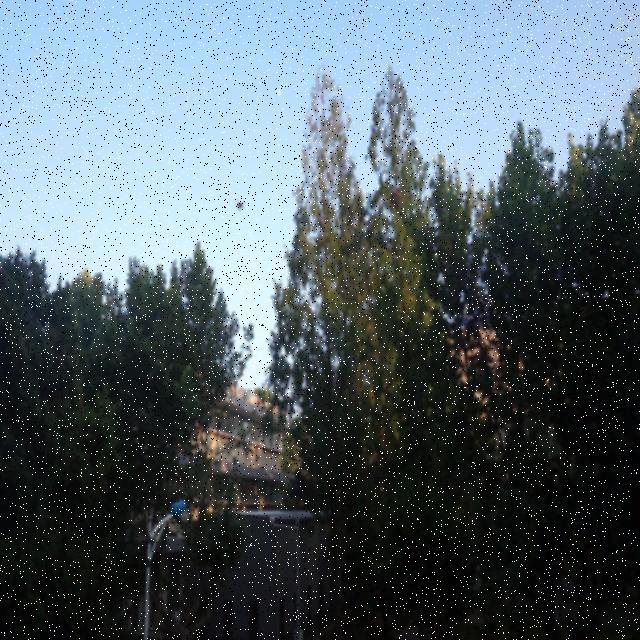UAV: (233, 199, 247, 213)
